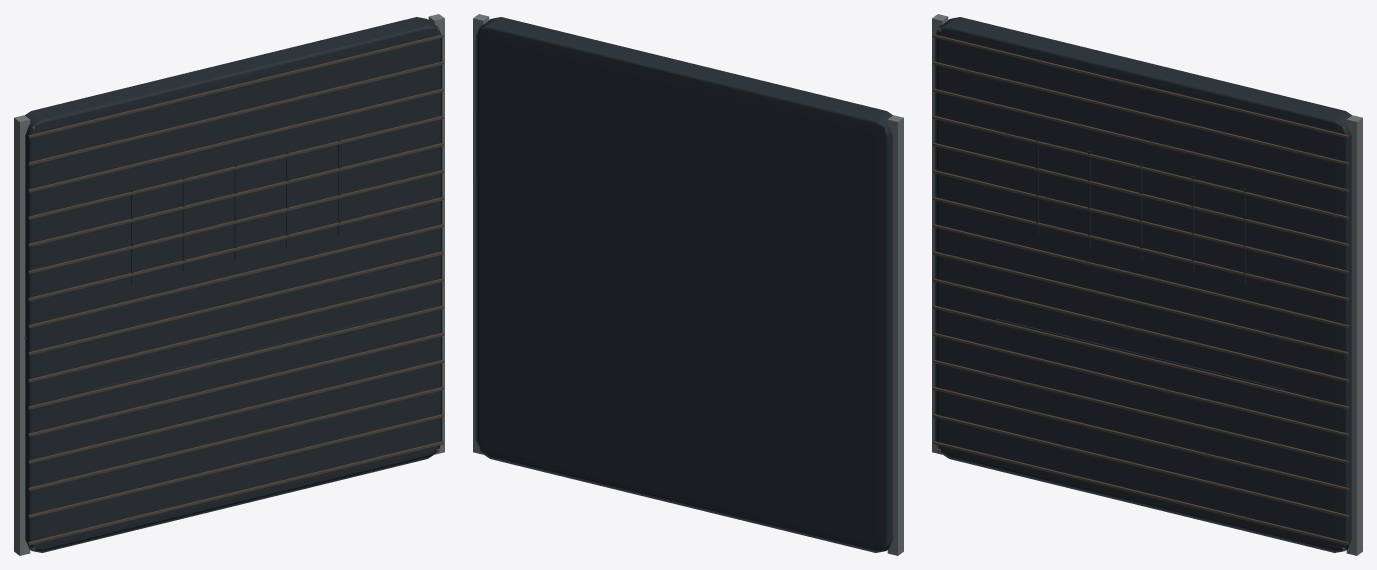
The model's file is blast-door-3.glb.
The picture shows the model from 3 angles, left to right: view 1: azimuth 30°, elevation 25°; view 2: azimuth 150°, elevation 25°; view 3: azimuth 330°, elevation 25°; orthographic projection.
Parts seen in each view (by area): view 1: blast-door/2/KR-230-3; view 2: blast-door/2/KR-230-3; view 3: blast-door/2/KR-230-3.
Part boxes in pixels (left/top/right/bottom): blast-door/2/KR-230-3: left=14, top=14, right=444, bottom=555; blast-door/2/KR-230-3: left=473, top=14, right=903, bottom=555; blast-door/2/KR-230-3: left=932, top=14, right=1362, bottom=555.
Size of the model in its own units: 8.2 by 8 by 0.44.
